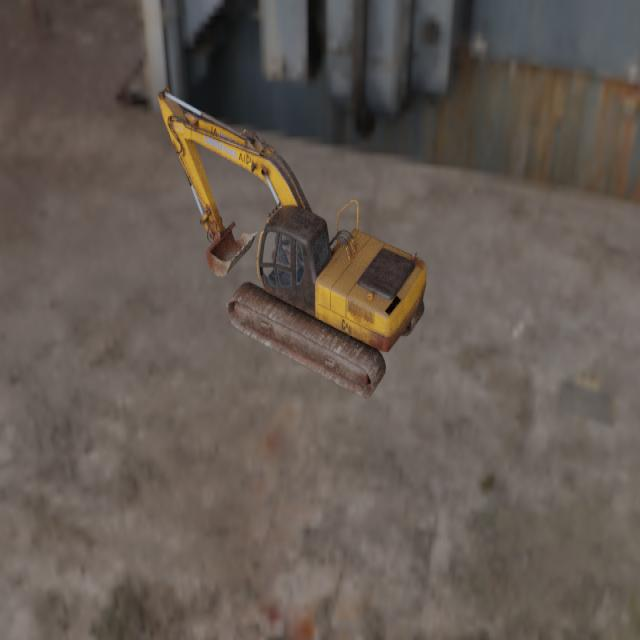excavator: (157, 85, 426, 399)
